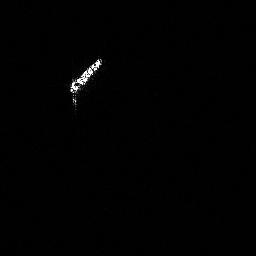ship: (69, 55, 105, 114)
